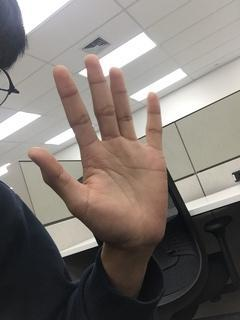hand: (27, 51, 170, 245)
